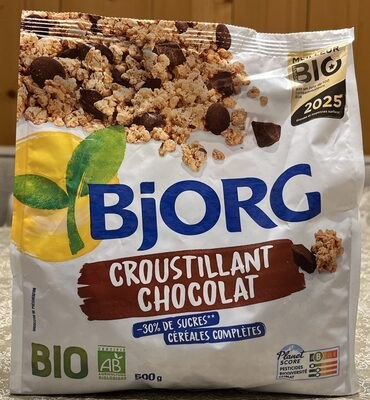Croustillant Chocolat: (18, 20, 352, 380)
